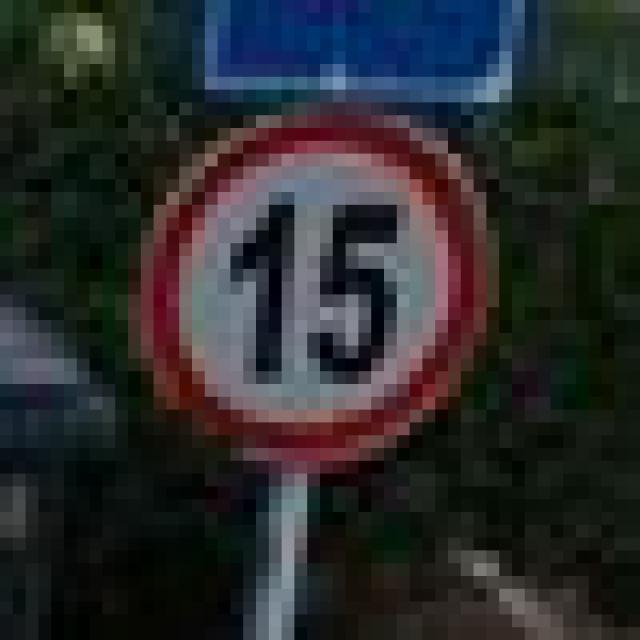SPEED_LIMIT_15: (116, 90, 487, 448)
